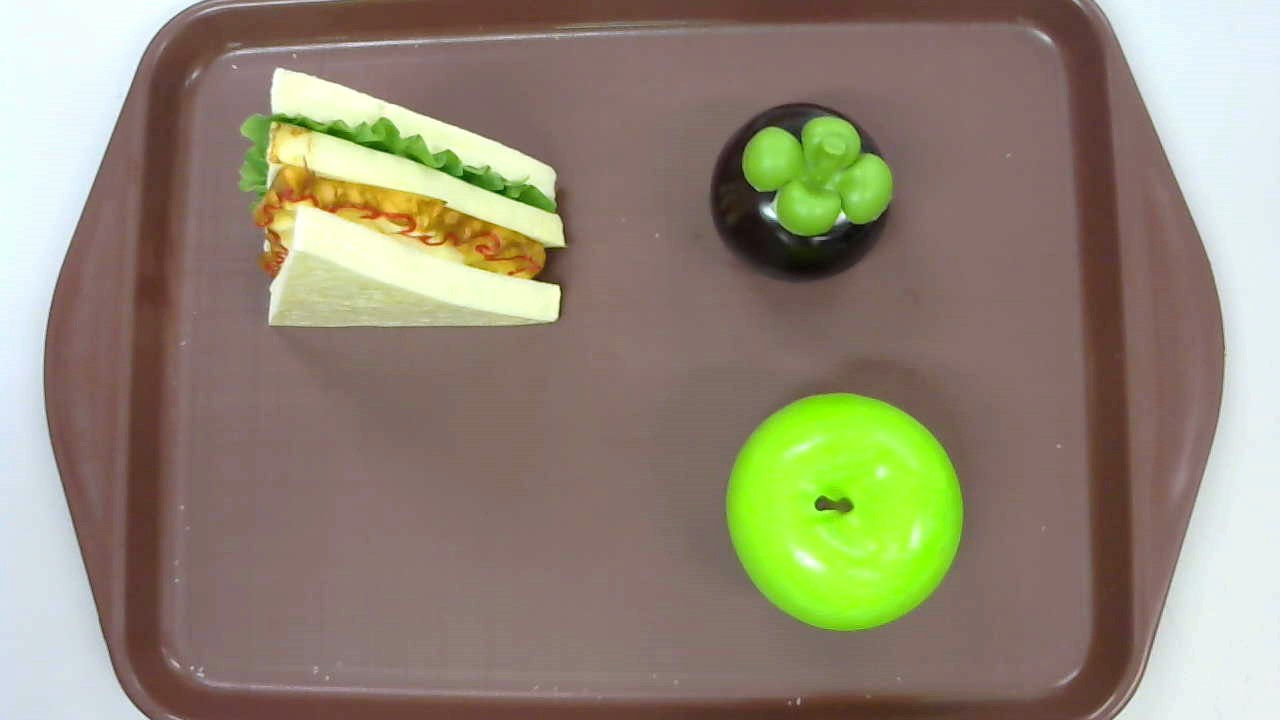green apple: (725, 392, 964, 631)
mangosteen: (710, 101, 894, 284)
sandwich: (235, 66, 569, 330)
